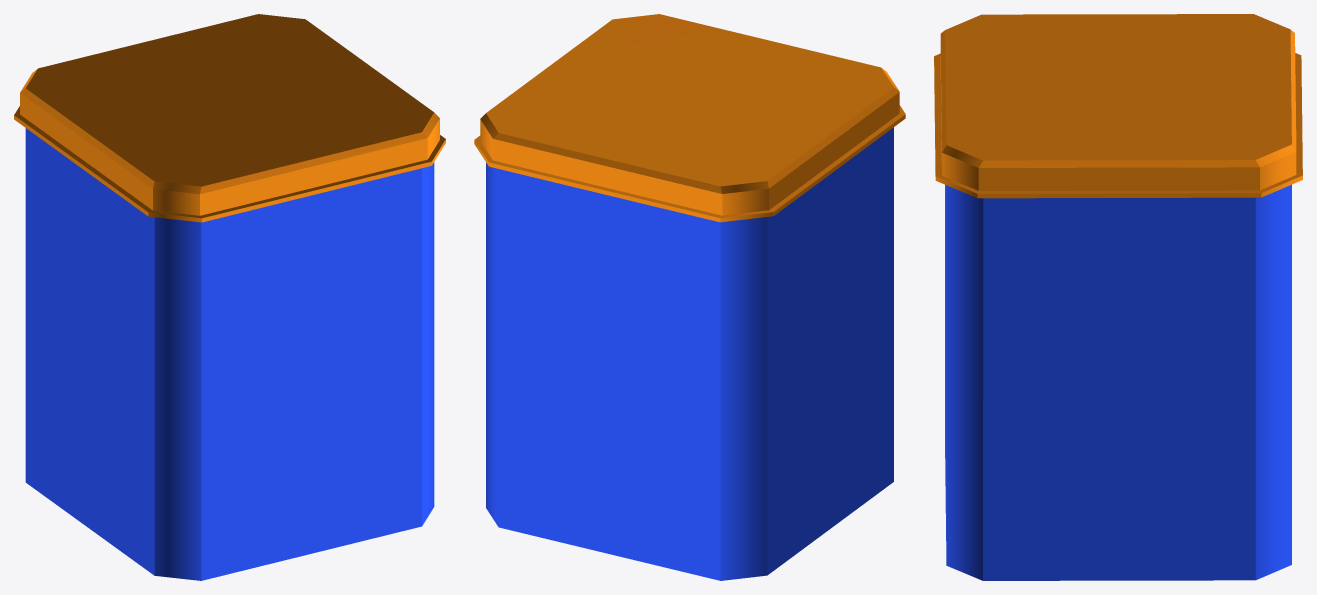
Rendered from Boxed Biscuit.fbx.
3 renders of one model, left to right at view 1: azimuth 30°, elevation 25°; view 2: azimuth 150°, elevation 25°; view 3: azimuth 270°, elevation 25°, orthographic. The views are drawn at different scales.
Visible parts, largest first — view 1: Node 0; view 2: Node 0; view 3: Node 0.
Part boxes in pixels (left/top/right/bottom): Node 0: left=14, top=14, right=445, bottom=580; Node 0: left=474, top=14, right=905, bottom=580; Node 0: left=934, top=14, right=1302, bottom=580.
Size of the model in its own units: 0.1753 by 0.2205 by 0.1753.
